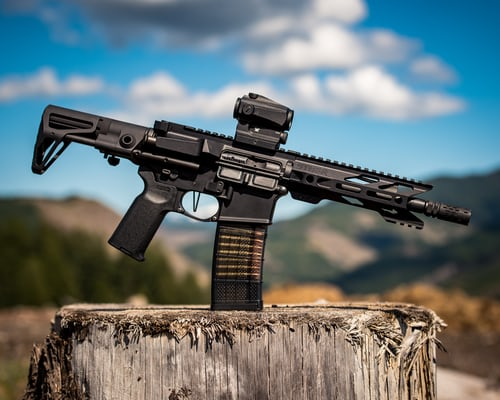gun: (30, 89, 472, 311)
